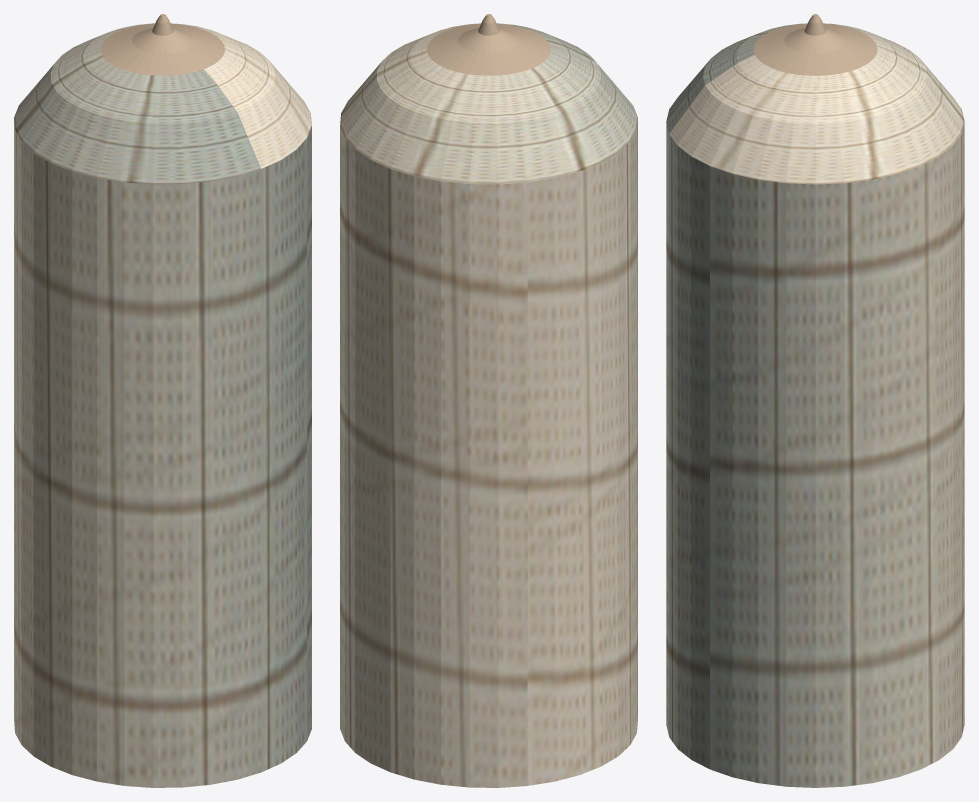
The model's file is building1.obj.
3 renders of one model, left to right at view 1: azimuth 30°, elevation 25°; view 2: azimuth 150°, elevation 25°; view 3: azimuth 270°, elevation 25°, orthographic.
Visible parts, largest first — view 1: Cylinder; view 2: Cylinder; view 3: Cylinder.
Part boxes in pixels (bbox=[...]): Cylinder: bbox=[14, 14, 311, 787]; Cylinder: bbox=[340, 14, 637, 787]; Cylinder: bbox=[666, 14, 964, 787].
Size of the model in its own units: 1.31 by 3.44 by 1.31.
Materials: 1 (1 with a texture image).
